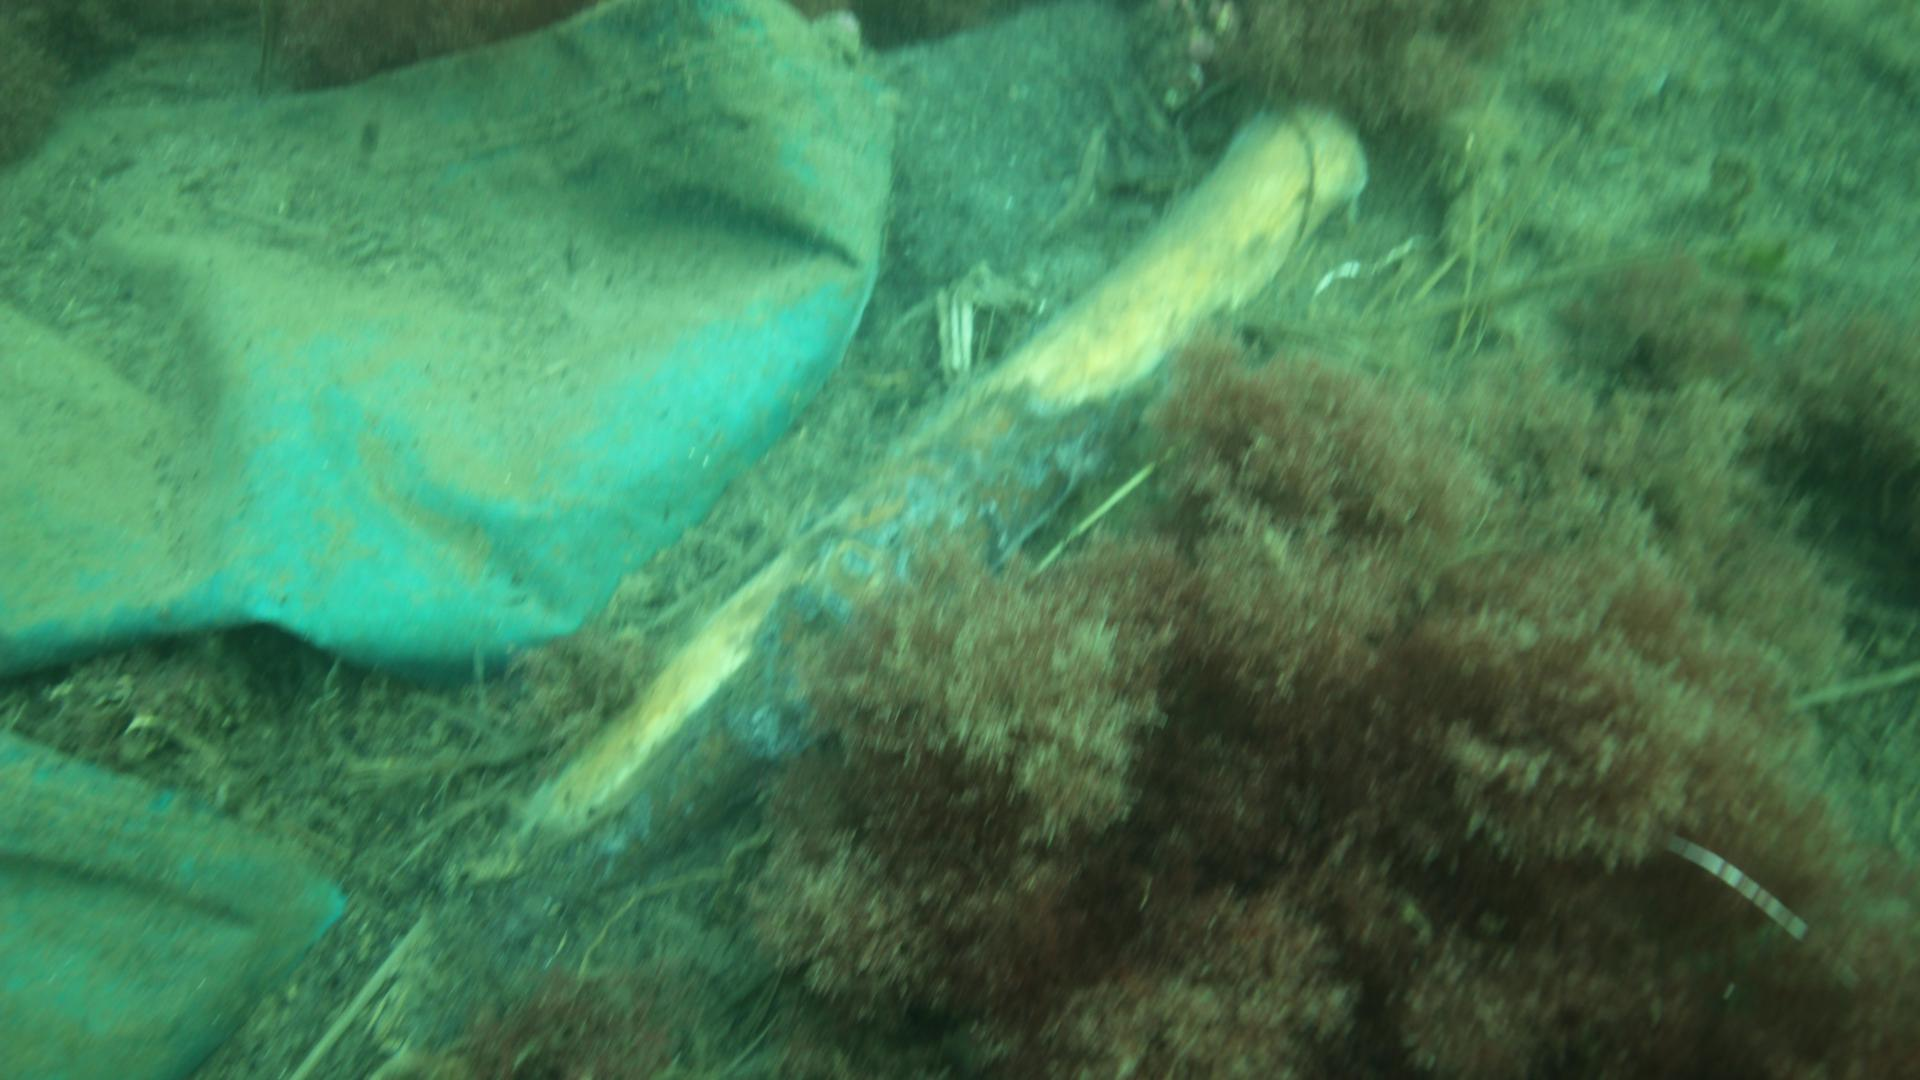wood: (543, 100, 1367, 829)
